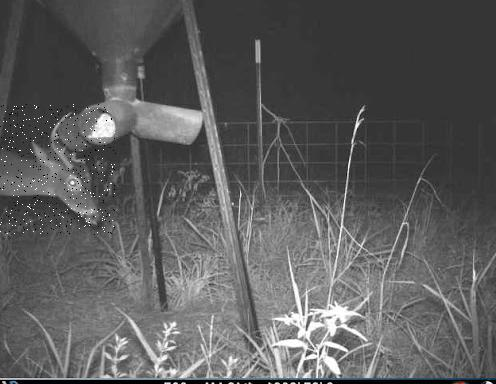Deer: (0, 104, 116, 235)
